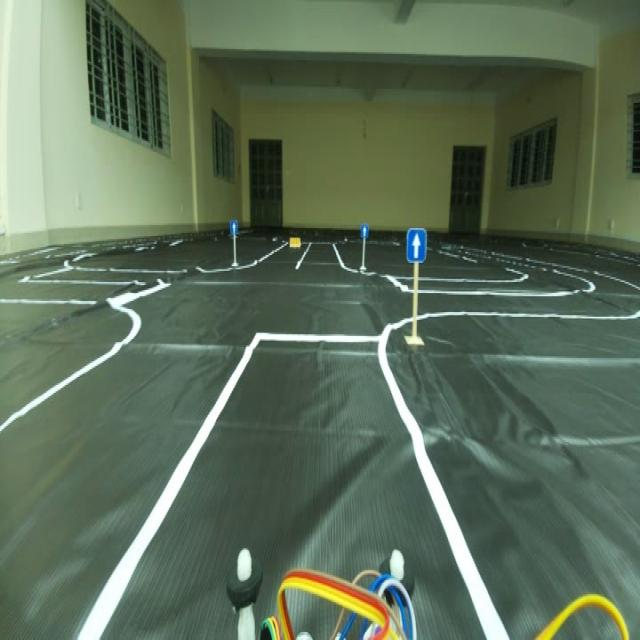onewayroad: (406, 224, 424, 264), (228, 212, 240, 234), (361, 223, 371, 238)
roadblock: (286, 233, 304, 250)
